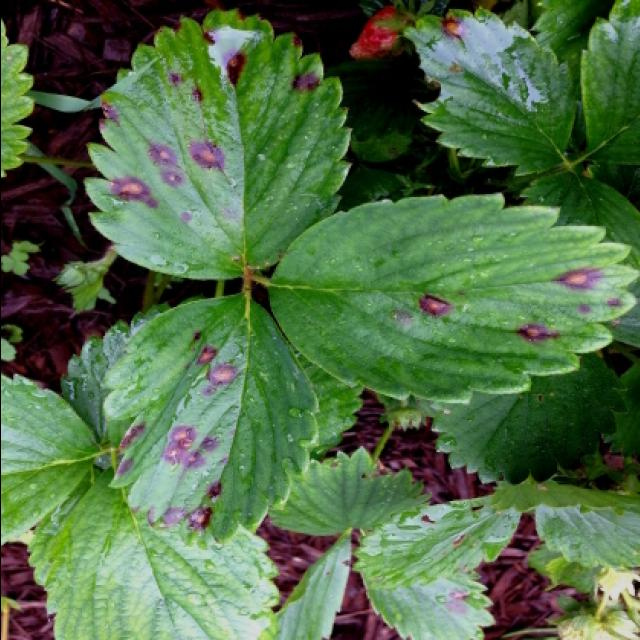Leaf Spot: (265, 190, 640, 404), (82, 5, 355, 281), (99, 292, 320, 551), (396, 2, 577, 177), (350, 495, 521, 590), (267, 443, 430, 539), (361, 568, 496, 640), (274, 529, 349, 640)
Powdery Mildew Fruit: (348, 4, 410, 60)
